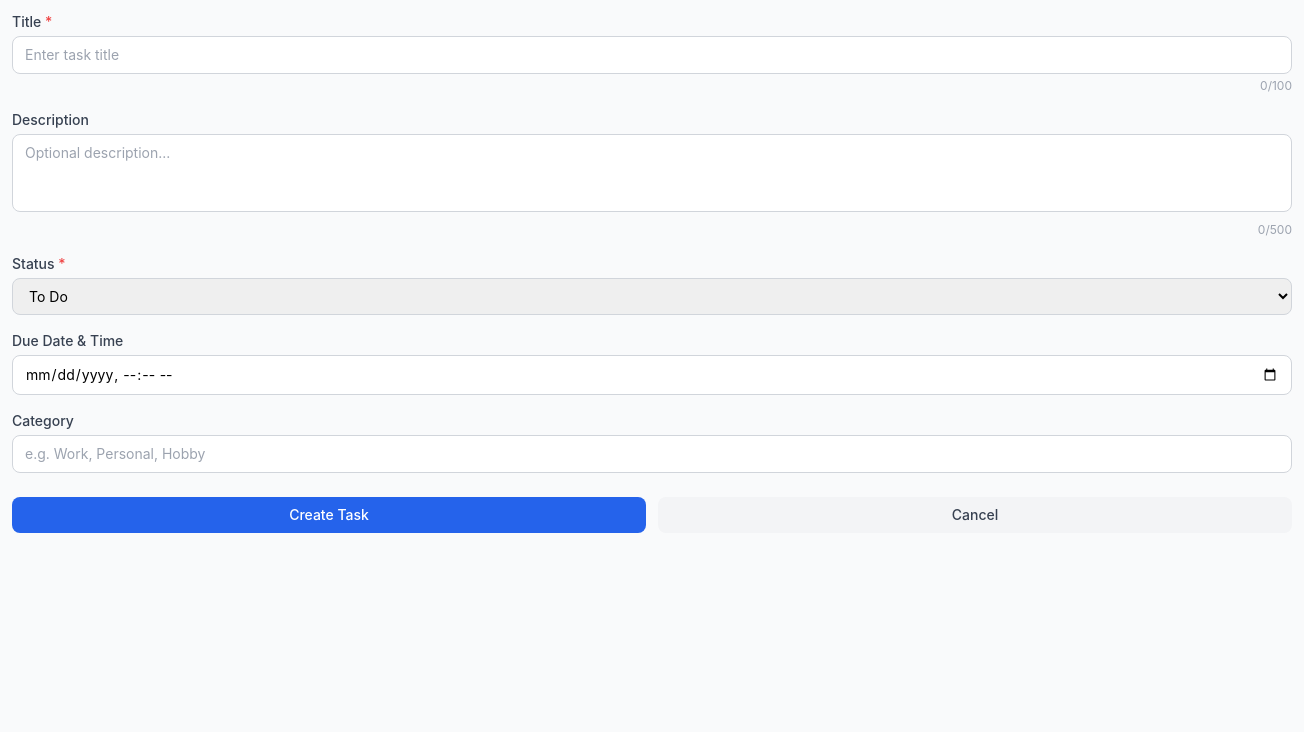
Test: TaskForm › validation › clears title error when user starts typing
Click the button "Create Task" at [329, 515], box top-left (12, 497), bottom-right (646, 533)
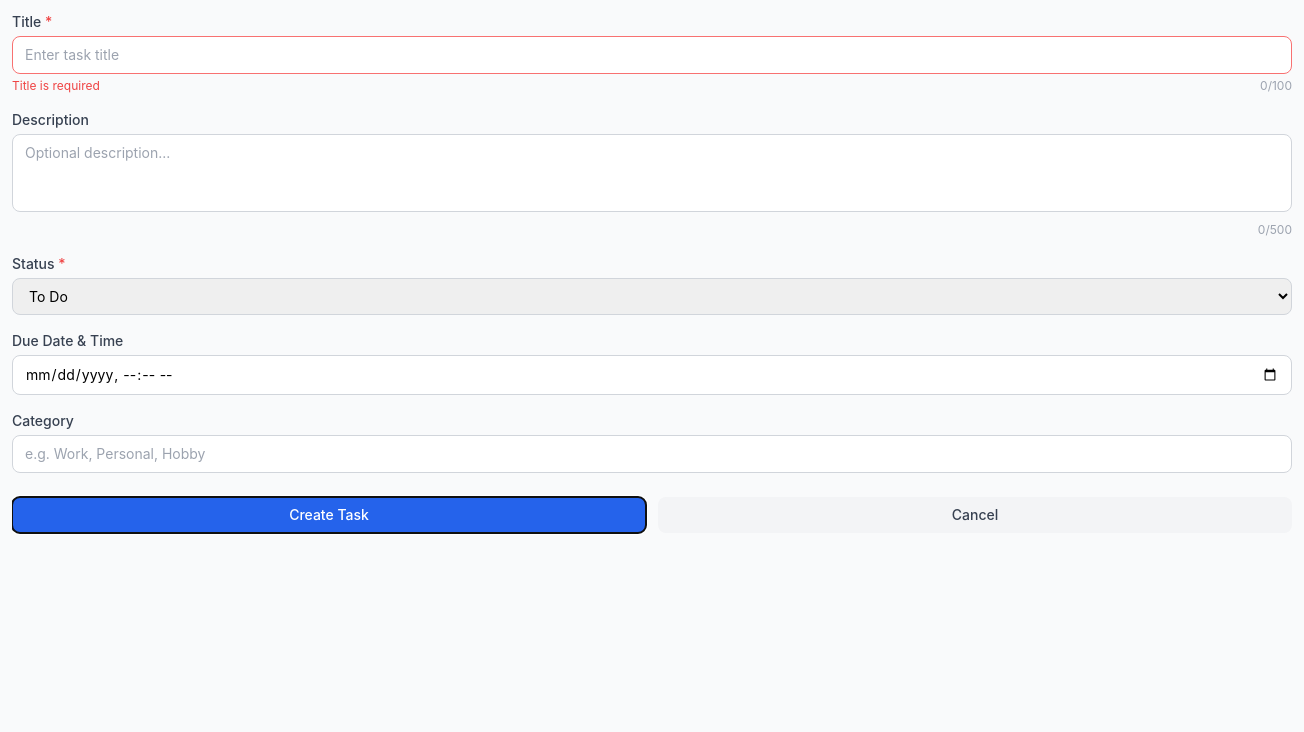
Result: the text "Title is required" is shown at top-left (12, 78), bottom-right (100, 94)
Type "A" into the field labelled "Title *" at [652, 55], box top-left (12, 36), bottom-right (1292, 74)
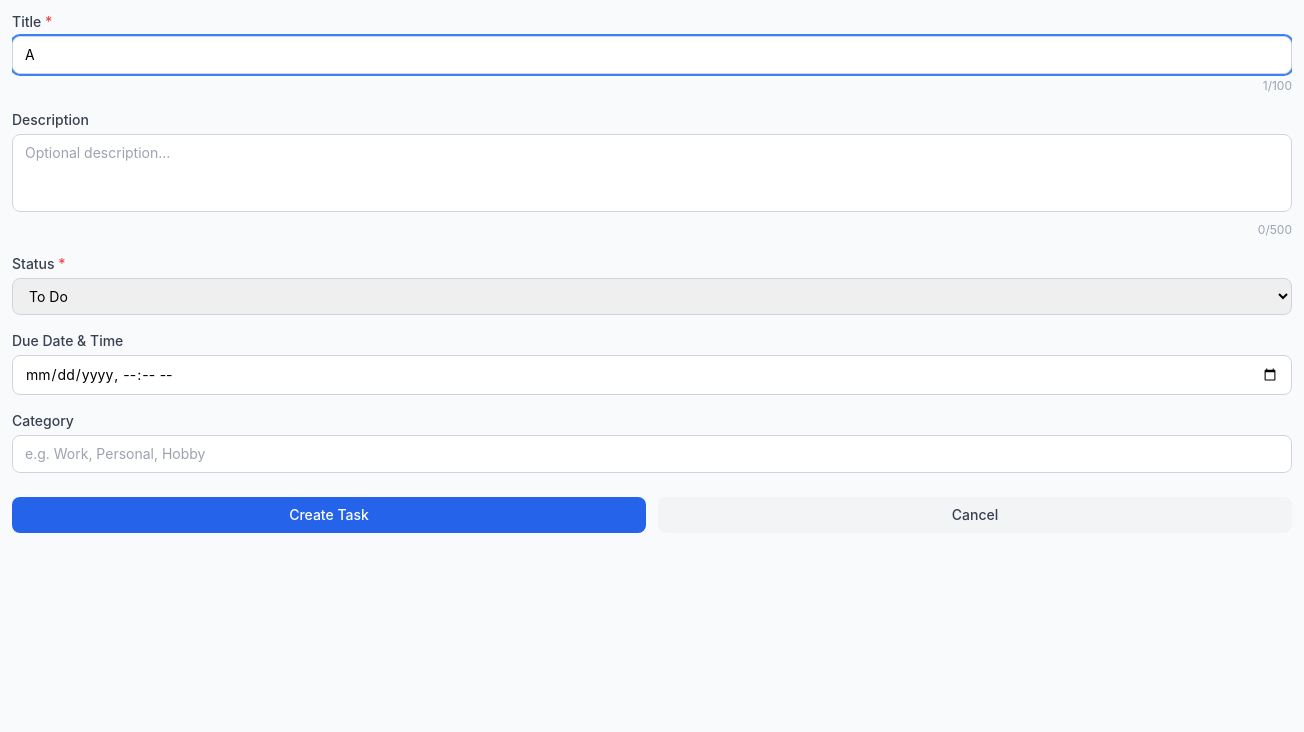
Result: the text "Title is required" is gone
